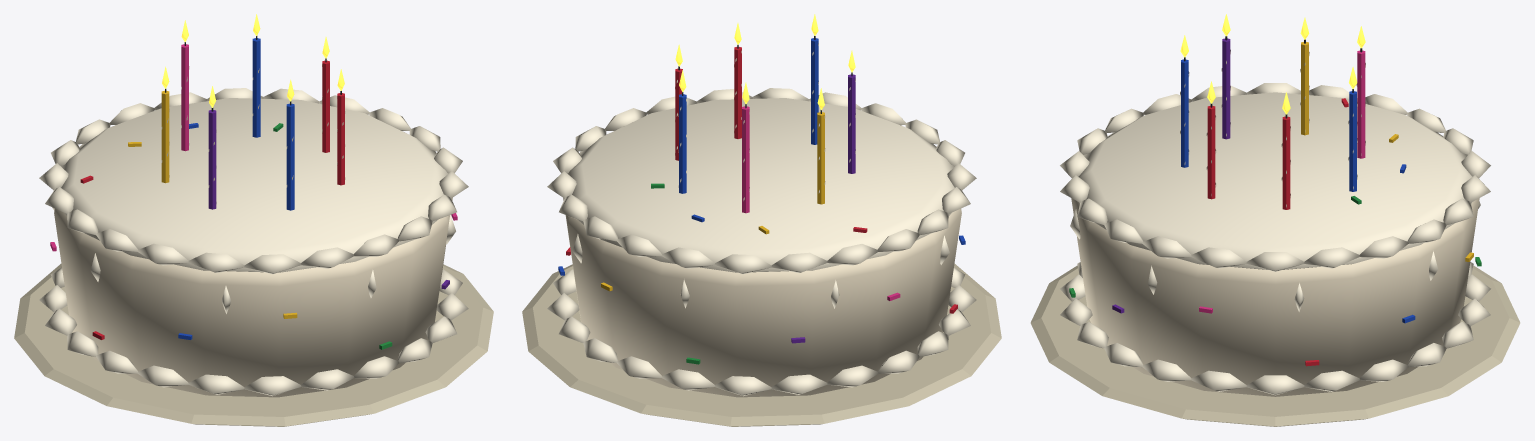
Rendered from party_cake_lit.glb.
3 renders of one model, left to right at view 1: azimuth 30°, elevation 25°; view 2: azimuth 150°, elevation 25°; view 3: azimuth 270°, elevation 25°, orthographic.
Parts seen in each view (by area): view 1: party_cake_lit_body; view 2: party_cake_lit_body; view 3: party_cake_lit_body.
Boxes of the visible parts, x1,y1,x2,y2 form: party_cake_lit_body: (14, 36, 493, 426); party_cake_lit_body: (522, 36, 1001, 426); party_cake_lit_body: (1030, 36, 1520, 426).
Bounding box in the file's own units: 0.36 × 0.236 × 0.36.
3 materials, 3 textured.
